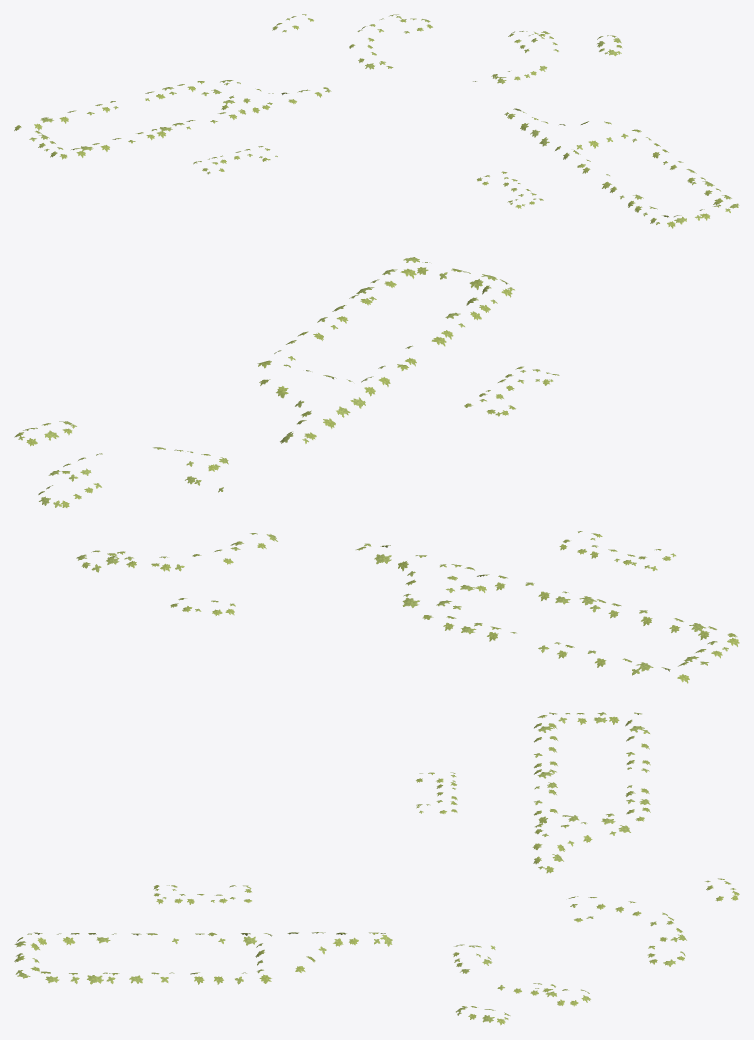
The model's file is pref_sm_garden_plants_vertextcolor_05_lv1.fbx.
The picture shows the model from 3 angles, top to bottom: view 1: azimuth 30°, elevation 25°; view 2: azimuth 150°, elevation 25°; view 3: azimuth 270°, elevation 25°; orthographic projection. The views are drawn at different scales.
Parts seen in each view (by area): view 1: pref_sm_garden_plants_vertextcolor_05_lv1; view 2: pref_sm_garden_plants_vertextcolor_05_lv1; view 3: pref_sm_garden_plants_vertextcolor_05_lv1.
Part boxes in pixels (x1=…): pref_sm_garden_plants_vertextcolor_05_lv1: x1=14, y1=14, x2=739, y2=228; pref_sm_garden_plants_vertextcolor_05_lv1: x1=14, y1=257, x2=739, y2=683; pref_sm_garden_plants_vertextcolor_05_lv1: x1=14, y1=712, x2=739, y2=1025.
Size of the model in its own units: 55.11 by 1.15 by 53.83.
Materials: 1 (1 with a texture image).
